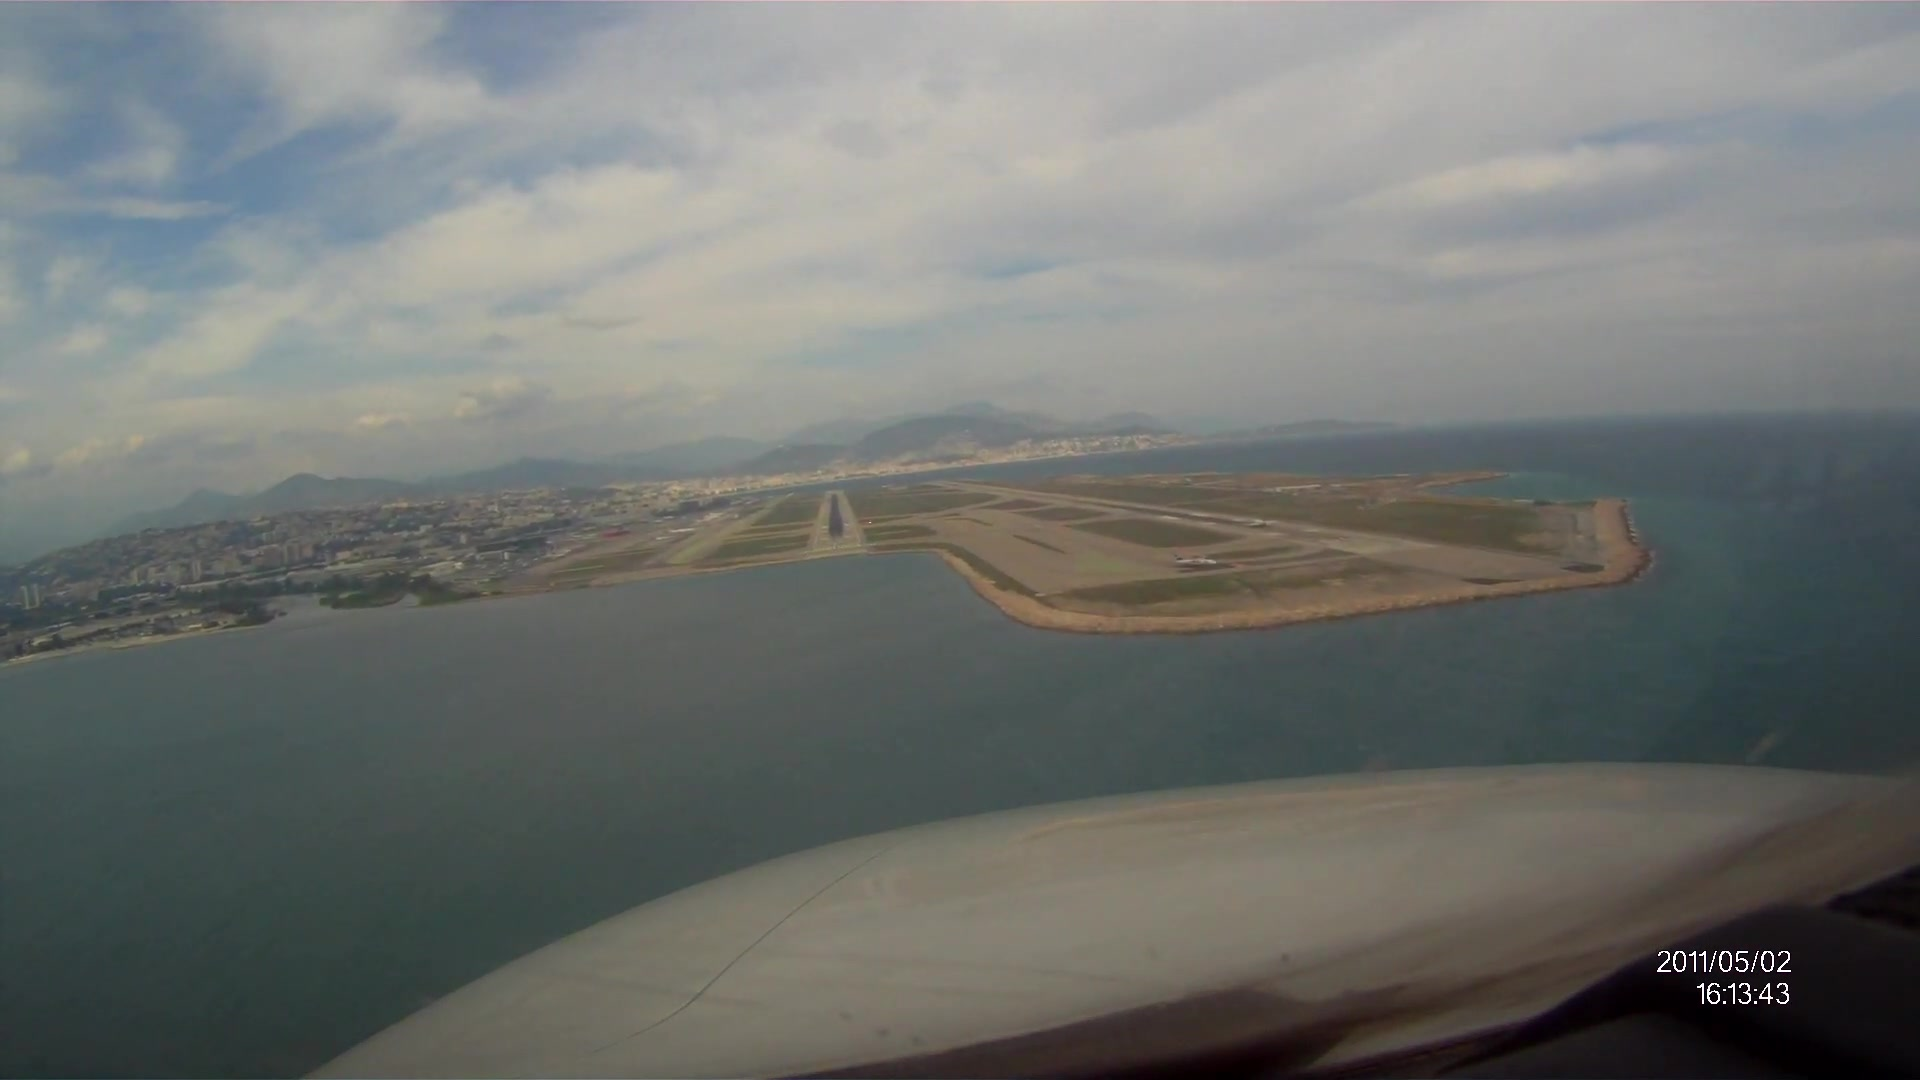entrance: (814, 541, 858, 553)
runway: (806, 489, 868, 555)
